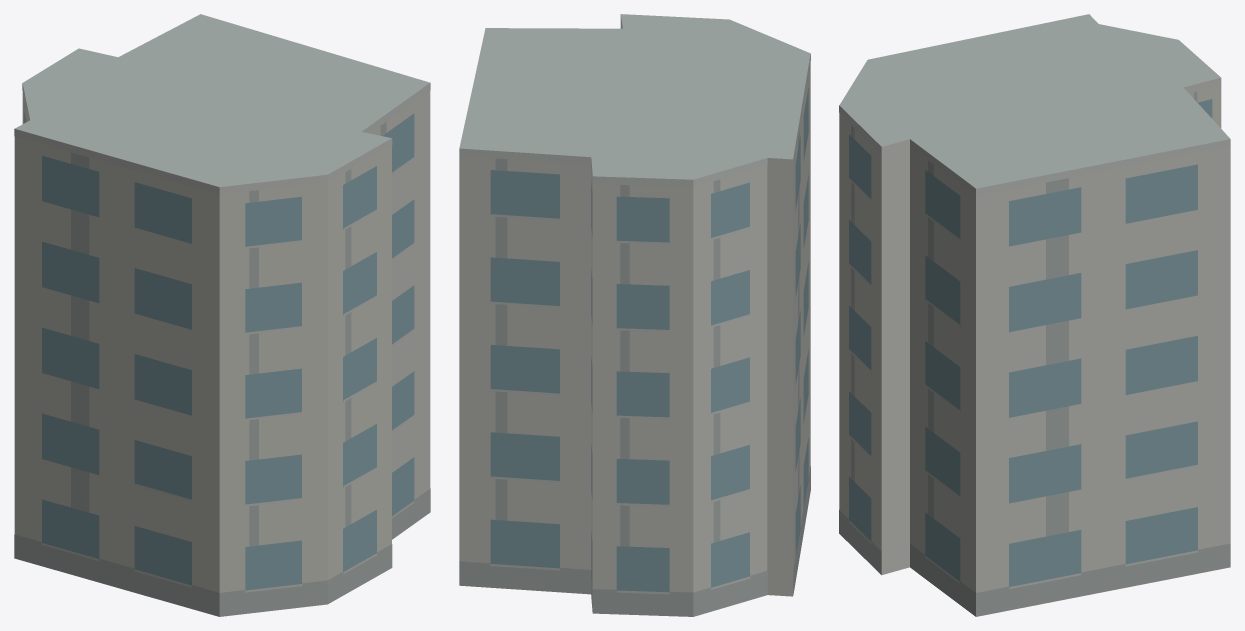
File: survey-upis-32832129.glb
The picture shows the model from 3 angles, left to right: view 1: azimuth 30°, elevation 25°; view 2: azimuth 150°, elevation 25°; view 3: azimuth 270°, elevation 25°; orthographic projection. The views are drawn at different scales.
Visible parts, largest first — view 1: survey-upis-32832129.tmp; view 2: survey-upis-32832129.tmp; view 3: survey-upis-32832129.tmp.
Part boxes in pixels (box(x1,y1,x2,y2)): survey-upis-32832129.tmp: box(14, 14, 430, 616); survey-upis-32832129.tmp: box(459, 14, 810, 616); survey-upis-32832129.tmp: box(839, 14, 1230, 616).
Size of the model in its own units: 12.17 by 13.9 by 11.52.
